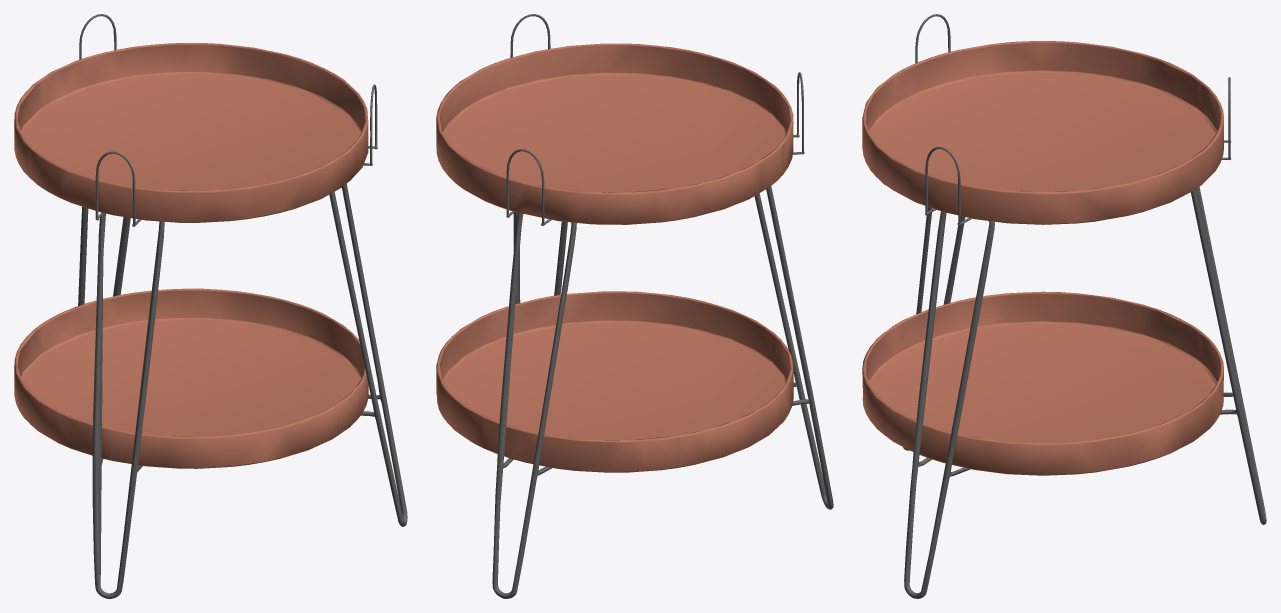
The model's file is vasestand.glb.
3 renders of one model, left to right at view 1: azimuth 30°, elevation 25°; view 2: azimuth 150°, elevation 25°; view 3: azimuth 270°, elevation 25°, orthographic. The views are drawn at different scales.
Visible parts, largest first — view 1: BezierCurve.003; view 2: BezierCurve.003; view 3: BezierCurve.003.
Boxes of the visible parts, x1,y1,x2,y2 form: BezierCurve.003: (14,14,407,598); BezierCurve.003: (436,14,833,598); BezierCurve.003: (862,14,1266,598).
Bounding box in the file's own units: 0.4322 × 0.5752 × 0.4743.
